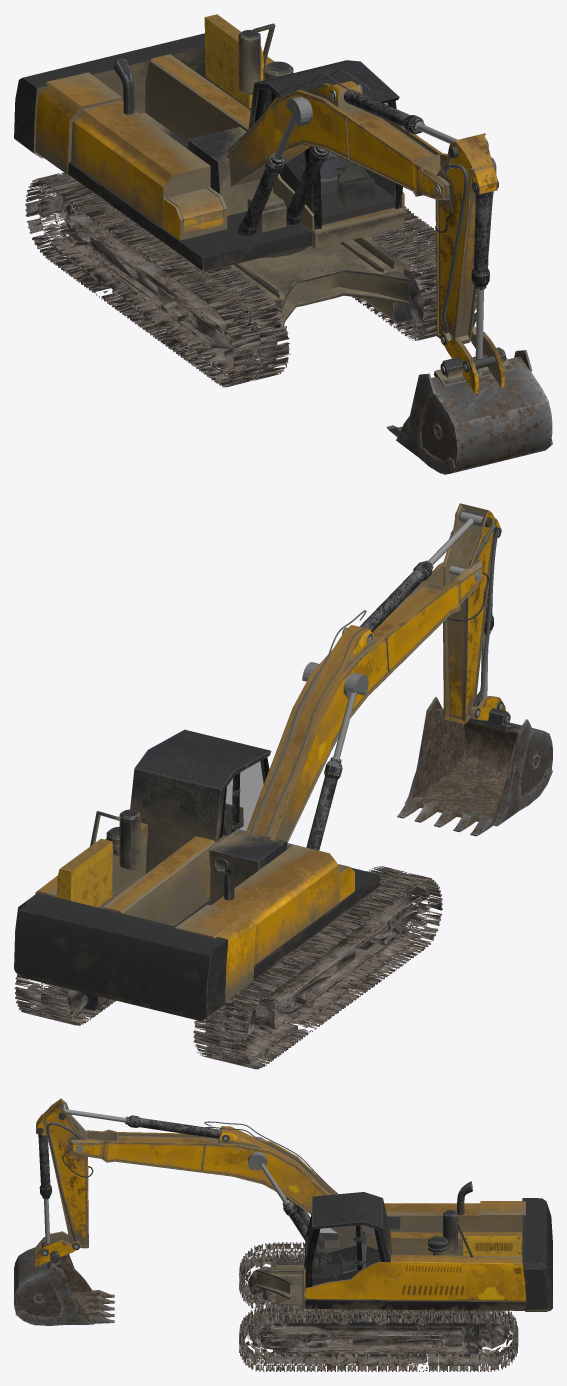
The model's file is excavator_cat_sarvesh777_1k.glb.
3 renders of one model, top to bottom at view 1: azimuth 30°, elevation 25°; view 2: azimuth 150°, elevation 25°; view 3: azimuth 270°, elevation 25°, orthographic. The views are drawn at different scales.
Parts seen in each view (by area): view 1: poclain:pCube93, poclain:tire1_pCylinder26, poclain:pCube14, poclain:pCube5, poclain:pCube97, poclain:polySurface828, poclain:polySurface834, poclain:pCube1, poclain:tire1_pCylinder25, poclain:polySurface821, poclain:polySurface826, poclain:pCube20 (+18 smaller); view 2: poclain:tire1_pCylinder26, poclain:pCube97, poclain:pCube93, poclain:pCube5, poclain:pCube14, poclain:polySurface821, poclain:polySurface834, poclain:pCube20, poclain:polySurface826, poclain:tire1_pCylinder25, poclain:pCube1, poclain:polySurface818 (+4 smaller); view 3: poclain:tire1_pCylinder25, poclain:pCube93, poclain:pCube5, poclain:pCube14, poclain:polySurface834, poclain:pCube97, poclain:pCube1, poclain:polySurface821, poclain:tire1_pCylinder26, poclain:polySurface830, poclain:pCube20, poclain:polySurface828 (+11 smaller).
Part boxes in pixels (x1,y1,x2,y2): poclain:pCube93: (35, 54, 404, 248); poclain:tire1_pCylinder26: (25, 172, 290, 387); poclain:pCube14: (386, 350, 552, 474); poclain:pCube5: (226, 81, 449, 200); poclain:pCube97: (14, 33, 312, 271); poclain:polySurface828: (229, 239, 409, 328); poclain:polySurface834: (435, 133, 497, 343); poclain:pCube1: (260, 89, 401, 226); poclain:tire1_pCylinder25: (352, 206, 476, 340); poclain:polySurface821: (248, 60, 399, 130); poclain:polySurface826: (187, 127, 273, 215); poclain:pCube20: (204, 14, 263, 108); poclain:tire1_pCylinder26: (193, 866, 442, 1069); poclain:pCube97: (14, 867, 379, 1021); poclain:pCube93: (35, 822, 354, 1001); poclain:pCube5: (245, 561, 482, 843); poclain:pCube14: (397, 697, 552, 836); poclain:polySurface821: (130, 729, 271, 873); poclain:polySurface834: (443, 503, 500, 724); poclain:pCube20: (56, 838, 112, 907); poclain:polySurface826: (209, 829, 287, 901); poclain:tire1_pCylinder25: (14, 973, 116, 1025); poclain:pCube1: (222, 760, 265, 835); poclain:polySurface818: (306, 757, 342, 850); poclain:tire1_pCylinder25: (239, 1304, 518, 1371); poclain:pCube93: (302, 1201, 526, 1310); poclain:pCube5: (70, 1126, 364, 1245); poclain:pCube14: (14, 1233, 114, 1325); poclain:polySurface834: (36, 1098, 88, 1248); poclain:pCube97: (305, 1198, 552, 1311); poclain:pCube1: (306, 1221, 380, 1285); poclain:polySurface821: (312, 1192, 392, 1262); poclain:tire1_pCylinder26: (239, 1242, 305, 1309); poclain:polySurface830: (275, 1307, 479, 1353); poclain:pCube20: (463, 1232, 521, 1256); poclain:polySurface828: (256, 1269, 302, 1315).
Size of the model in its own units: 0.0431 by 0.053 by 0.1166.
25 materials, 16 textured.
